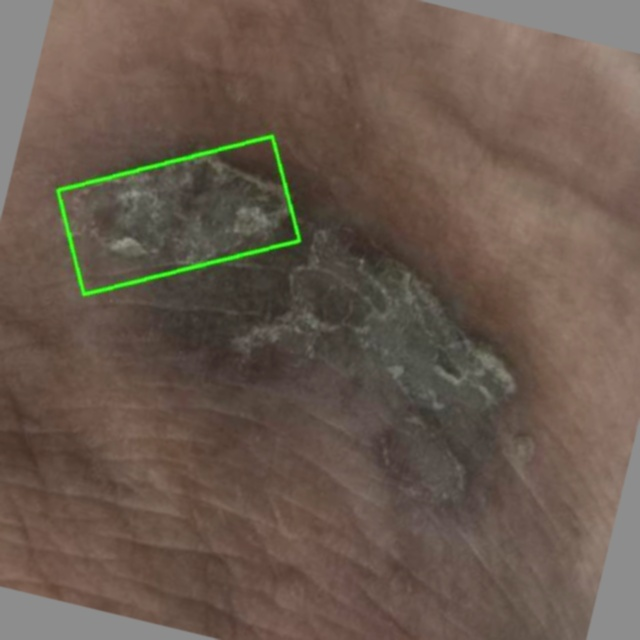Eczema: (57, 135, 298, 294)
